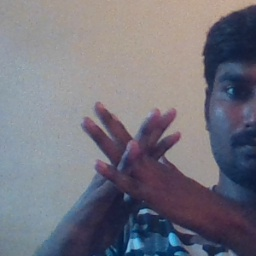W: (72, 92, 195, 232)
